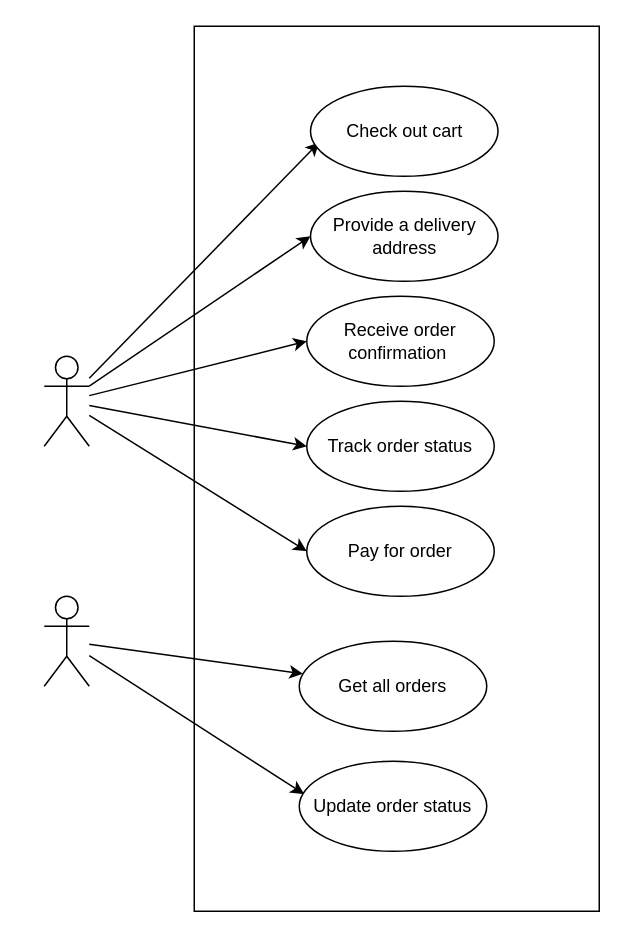
The diagram is 626 pixels wide and 938 high, and some of its shapes have lost their labels. The shapes that lost their labels are listed below. From the top down, each one's centre as x and y in pixels, then its label:
the point at 66,400: Buyer
the point at 66,640: SysAdmin
